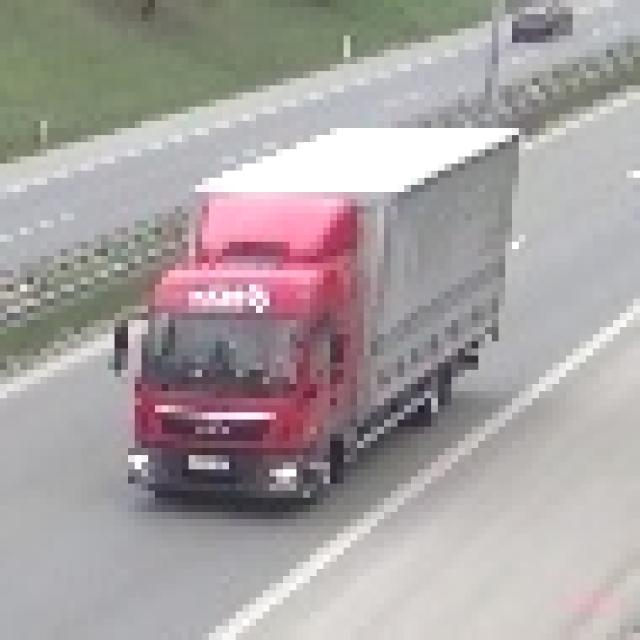truck: (102, 122, 520, 499)
